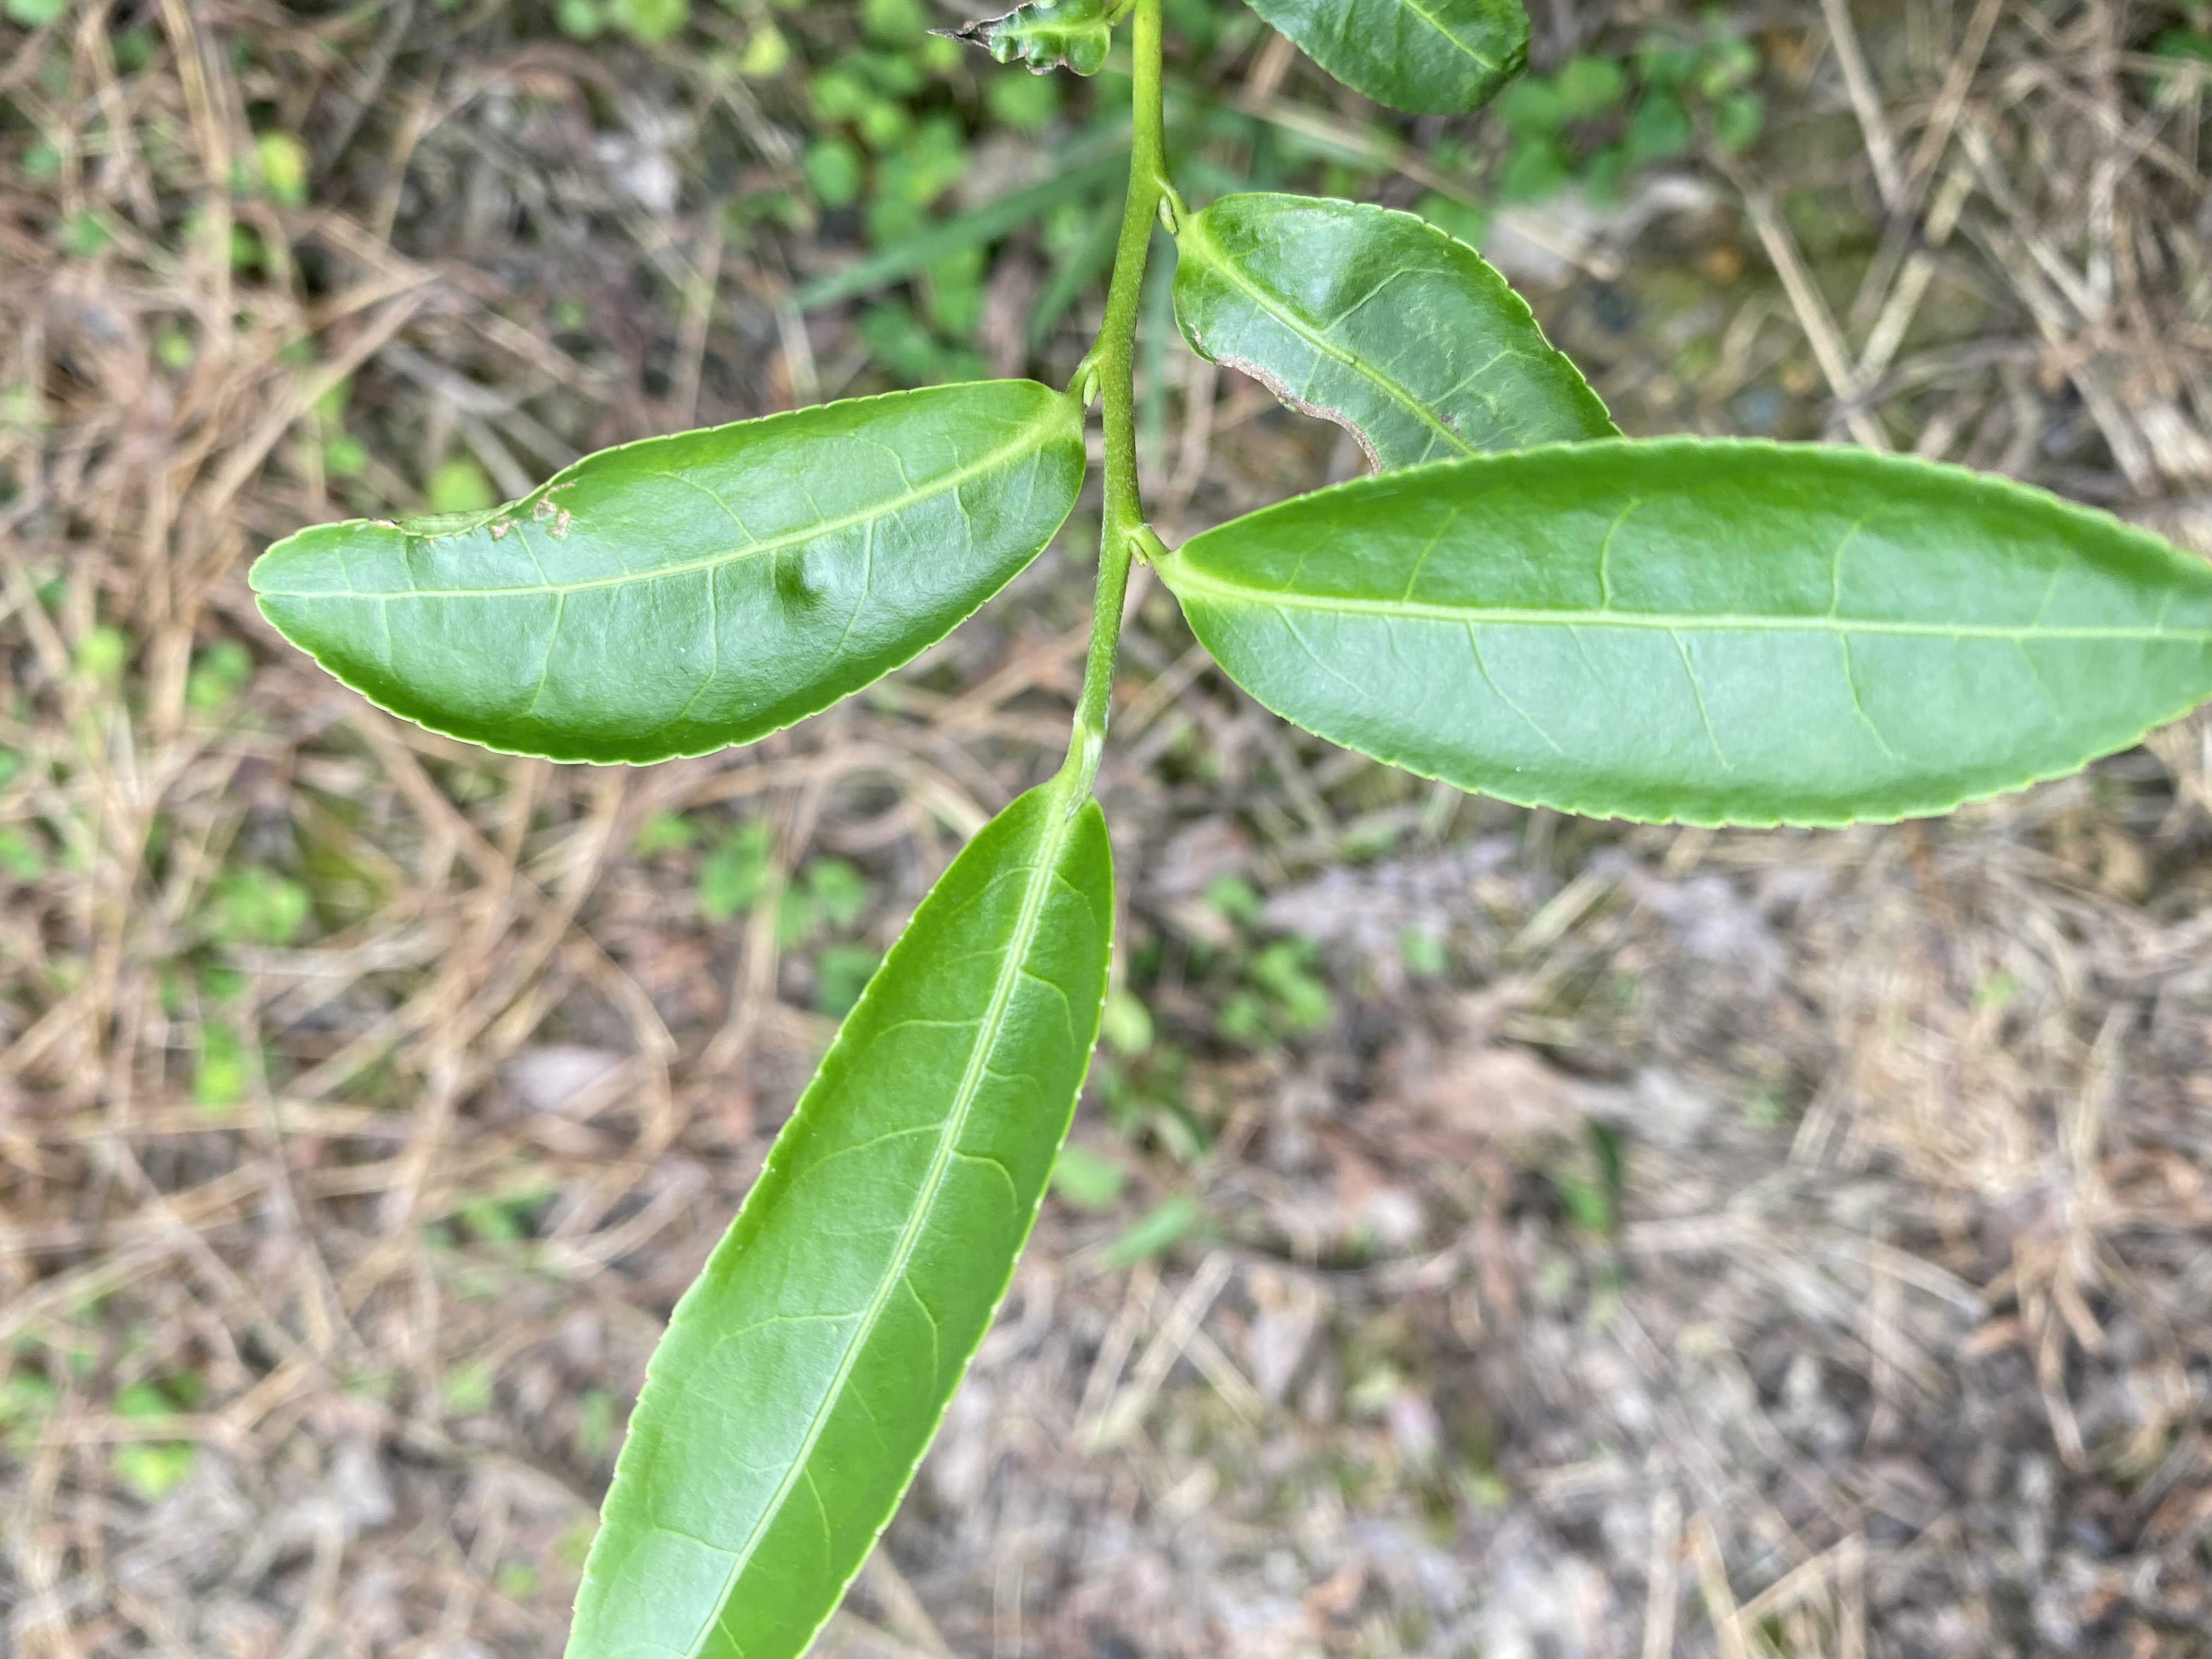healthy: (557, 786, 1116, 1656), (1165, 437, 2212, 831)
tanju_low: (249, 373, 1089, 767)
